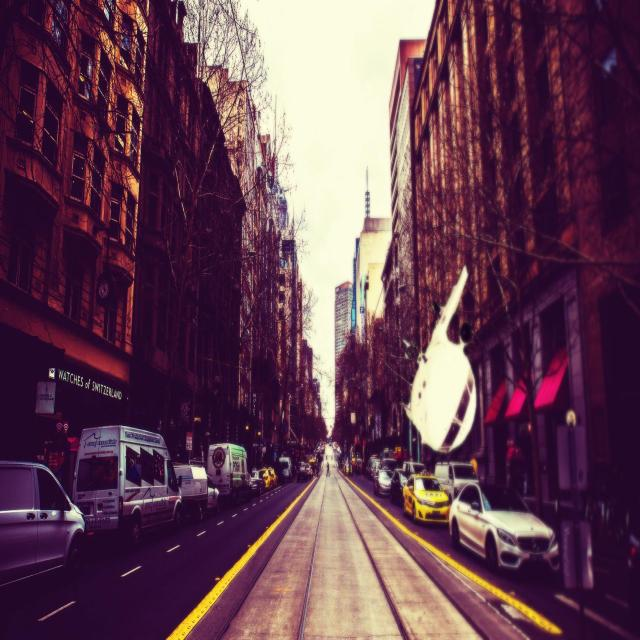airplane: (399, 264, 477, 453)
